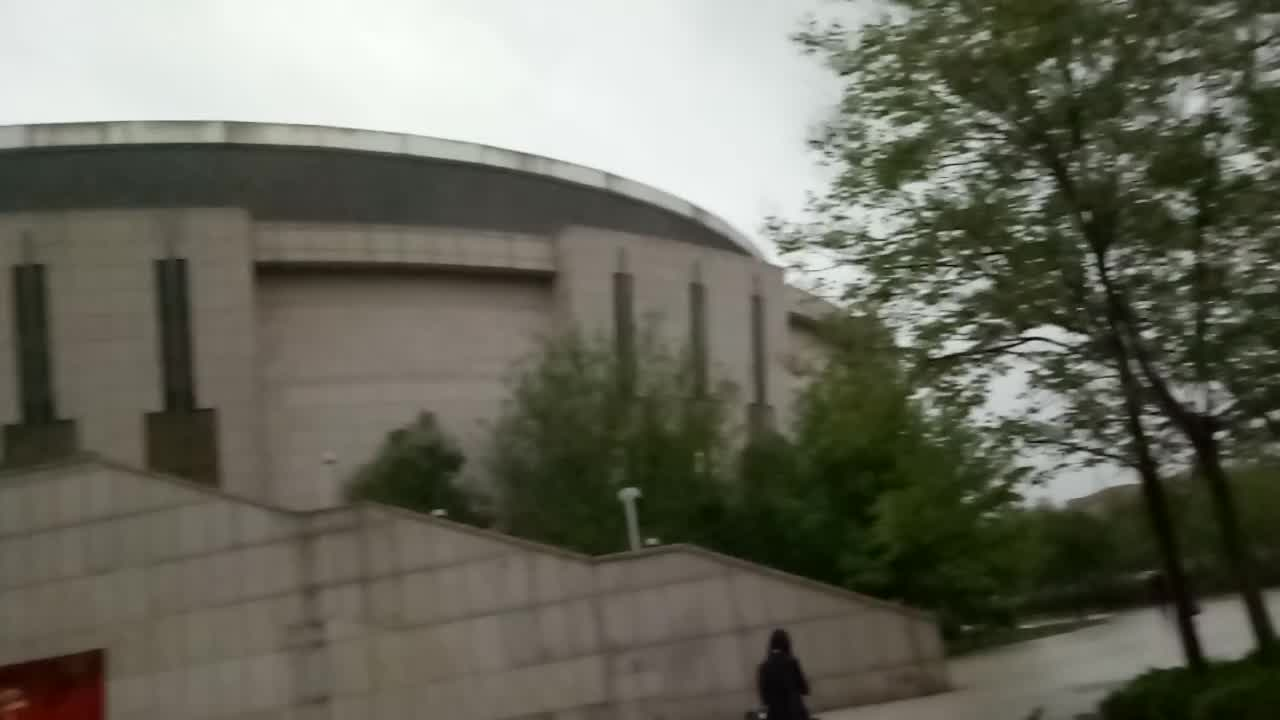zhongtiww: (10, 114, 962, 706)
